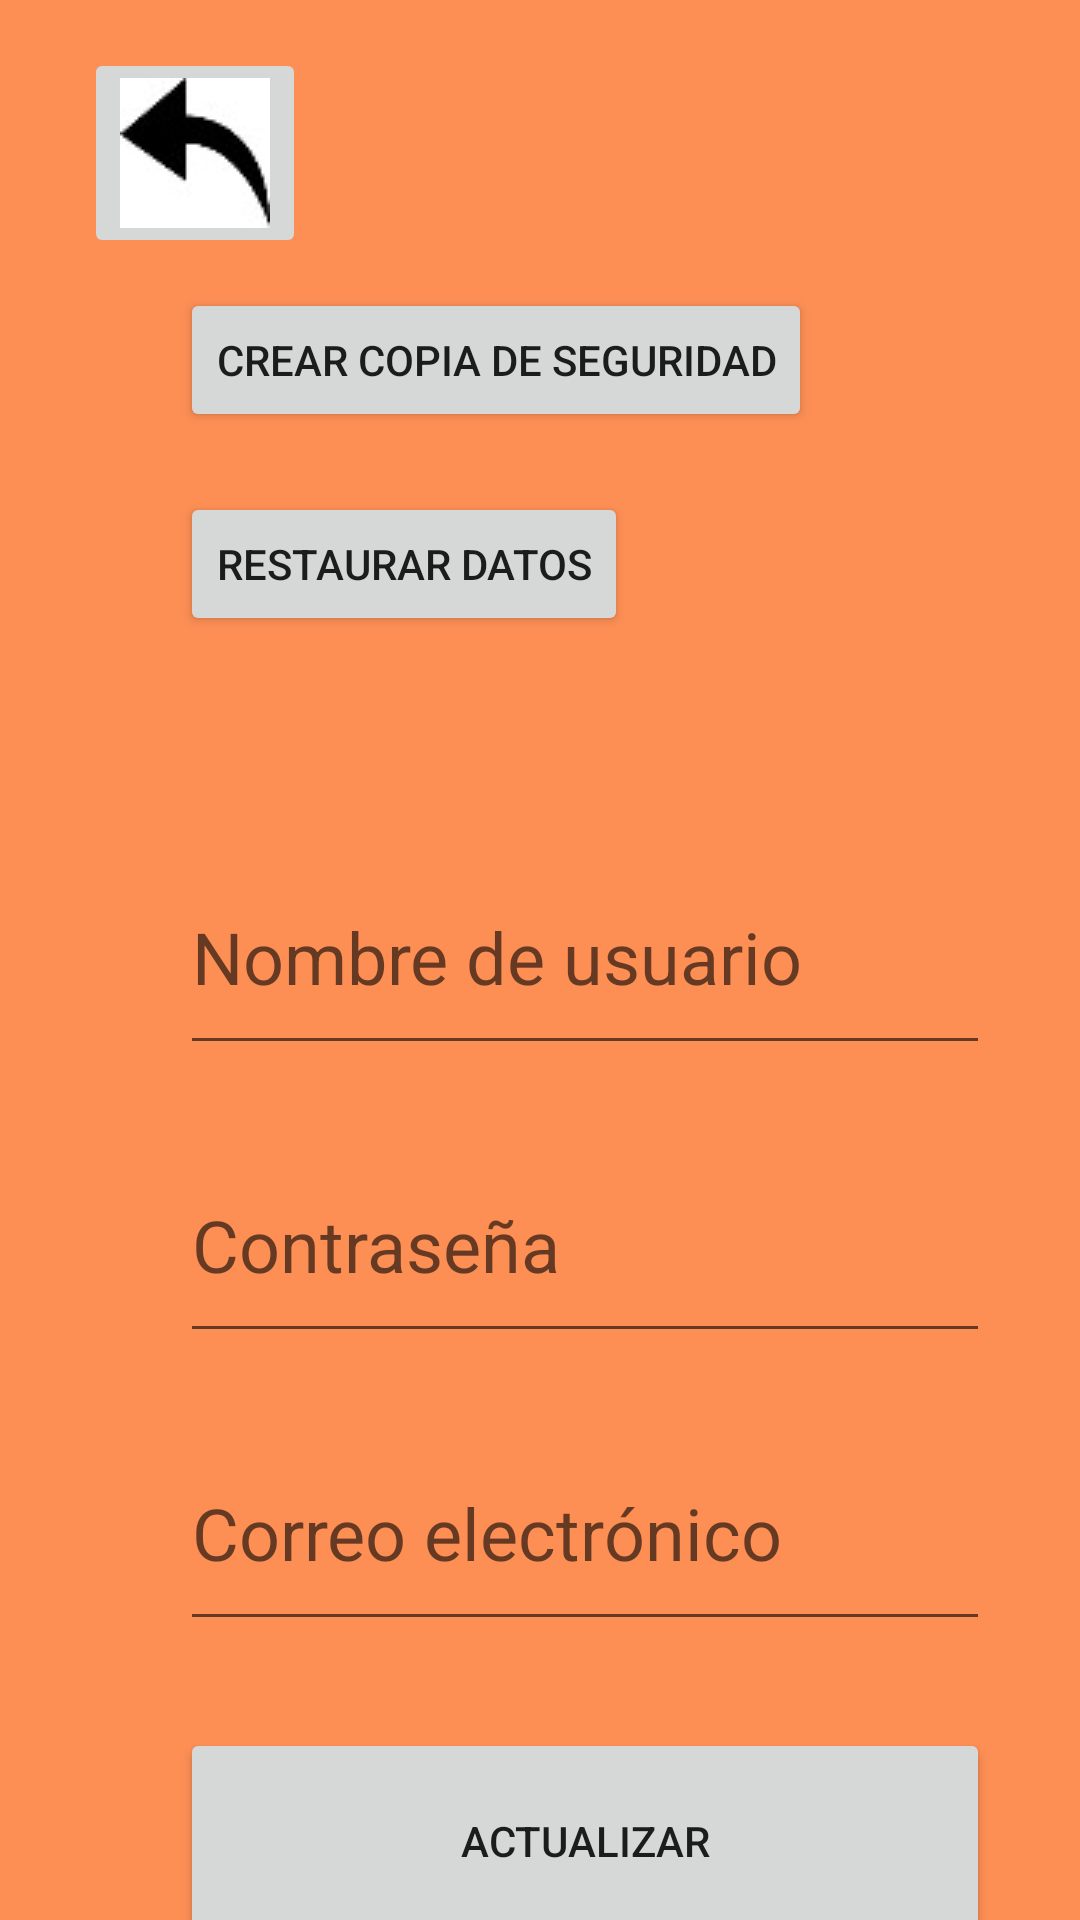

Icon bounding boxes for this 1080 x 1920 phone screenshot, format (x1, y1, x2, y2):
volver: (96, 66, 294, 240)
